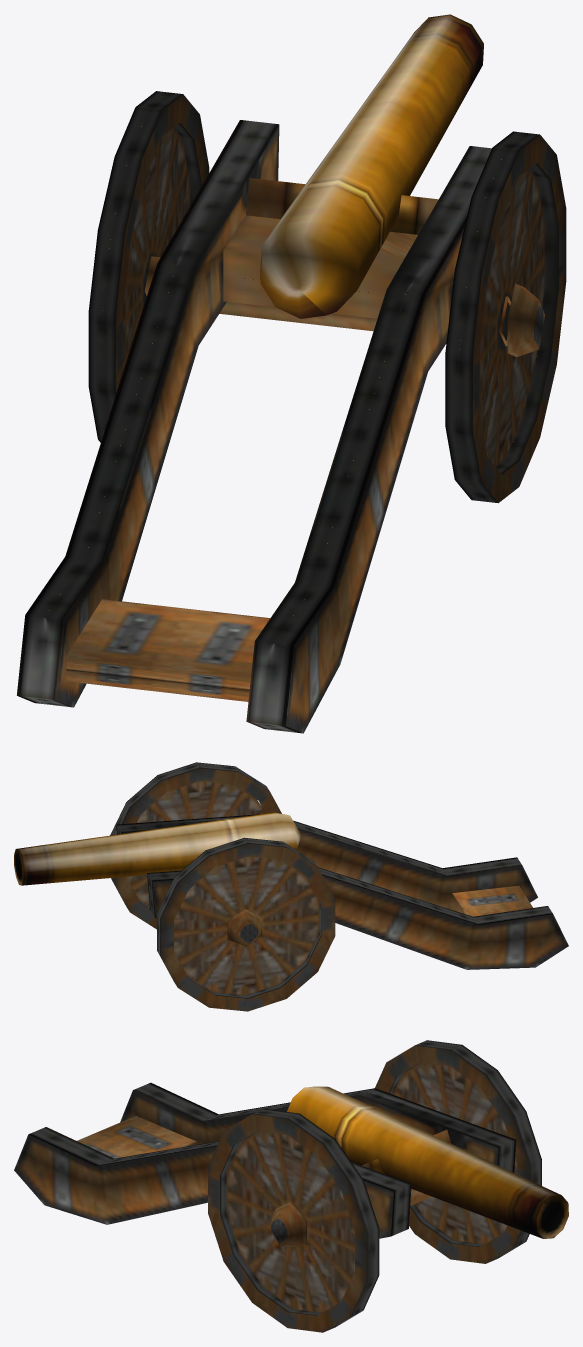
Rendered from RiskView.ICO.obj.
The picture shows the model from 3 angles, top to bottom: view 1: azimuth 30°, elevation 25°; view 2: azimuth 150°, elevation 25°; view 3: azimuth 270°, elevation 25°; orthographic projection. The views are drawn at different scales.
Size of the model in its own units: 3.58 by 1.47 by 3.51.
1 material, 1 textured.
